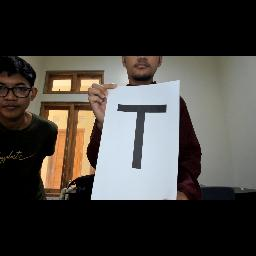t: (112, 100, 176, 174)
